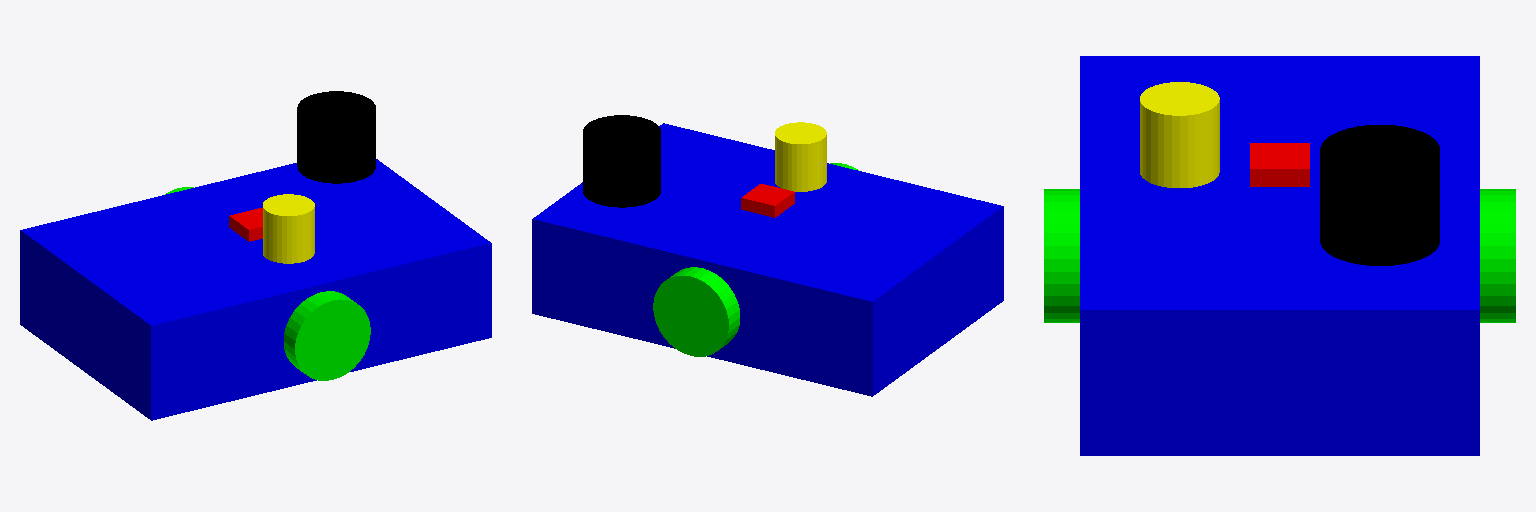
robot.urdf — sebot_model:
<?xml version="1.0"?>
<robot name="sebot_model">
  
  <link name="base_footprint"/>

  <link name="base_link">
    <visual>
      <geometry>
        <box size="0.3 0.2 0.08"/>
      </geometry>
      <material name="blue">
        <color rgba="0 0 1 1"/>
      </material>
    </visual>
  </link>

  <joint name="base_footprint_to_base_link" type="fixed">
    <parent link="base_footprint"/>
    <child link="base_link"/>
    <origin xyz="0 0 0.0335" rpy="0 0 0"/>
  </joint>

  <link name="left_wheel">
    <visual>
      <geometry>
        <cylinder length="0.02" radius="0.0335"/>
      </geometry>
      <material name="green">
        <color rgba="0 1 0 1"/>
      </material>
    </visual>
  </link>

  <joint name="base_to_left_wheel" type="fixed">
    <parent link="base_link"/>
    <child link="left_wheel"/>
    <origin xyz="0 0.1075 0" rpy="-1.5708 0 0"/>
  </joint>

  <link name="right_wheel">
    <visual>
      <geometry>
        <cylinder length="0.02" radius="0.0335"/>
      </geometry>
      <material name="green">
        <color rgba="0 1 0 1"/>
      </material>
    </visual>
  </link>

  <joint name="base_to_right_wheel" type="fixed">
    <parent link="base_link"/>
    <child link="right_wheel"/>
    <origin xyz="0 -0.1075 0" rpy="-1.5708 0 0"/>
  </joint>

  <link name="imu_link">
    <visual>
      <geometry>
        <box size="0.03 0.03 0.01"/>
      </geometry>
      <material name="red">
        <color rgba="1 0 0 1"/>
      </material>
    </visual>
  </link>

  <joint name="base_to_imu_link" type="fixed">
    <parent link="base_link"/>
    <child link="imu_link"/>
    <origin xyz="0 0 0.05" rpy="0 0 0"/>
  </joint>

  <link name="uwb_link">
    <visual>
      <geometry>
        <cylinder length="0.04" radius="0.02"/>
      </geometry>
      <material name="yellow">
        <color rgba="1 1 0 1"/>
      </material>
    </visual>
  </link>

  <joint name="base_to_uwb_link" type="fixed">
    <parent link="base_link"/>
    <child link="uwb_link"/>
    <origin xyz="0 -0.05 0.0665" rpy="0 0 0"/>
  </joint>

  <link name="laser">
    <visual>
      <geometry>
        <cylinder length="0.05" radius="0.03"/>
      </geometry>
      <material name="black">
        <color rgba="0 0 0 1"/>
      </material>
    </visual>
  </link>

  <joint name="base_to_lidar_link" type="fixed">
    <parent link="base_link"/>
    <child link="laser"/>
    <origin xyz="0.1 0.05 0.08" rpy="0 0 0"/>
  </joint>

</robot>

--- Facts derived from the render (not from the file) ---
The picture shows the robot from 3 angles, left to right: view 1: azimuth 30°, elevation 25°; view 2: azimuth 150°, elevation 25°; view 3: azimuth 270°, elevation 25°; orthographic projection.
Model sebot_model with 7 links and 6 joints (6 fixed), rooted at base_footprint, posed every joint at zero.
Links seen in each view (by area): view 1: base_link, laser, right_wheel, uwb_link, imu_link; view 2: base_link, laser, left_wheel, uwb_link, imu_link; view 3: base_link, laser, uwb_link, left_wheel, right_wheel, imu_link.
Boxes of the visible links, x1,y1,x2,y2 form: base_link: [20, 159, 491, 420]; laser: [297, 91, 375, 183]; right_wheel: [284, 291, 370, 380]; uwb_link: [263, 194, 314, 263]; imu_link: [229, 208, 262, 241]; base_link: [532, 123, 1003, 396]; laser: [583, 115, 660, 207]; left_wheel: [653, 267, 739, 356]; uwb_link: [775, 122, 826, 191]; imu_link: [741, 184, 794, 217]; base_link: [1080, 56, 1479, 455]; laser: [1320, 125, 1439, 265]; uwb_link: [1140, 82, 1219, 187]; left_wheel: [1480, 189, 1515, 322]; right_wheel: [1044, 189, 1079, 322]; imu_link: [1250, 143, 1309, 186].
Bounding box of the posed robot: 0.3 × 0.235 × 0.145 m (x, y, z).
Geometry: primitives only (box / cylinder / sphere), no mesh files.
